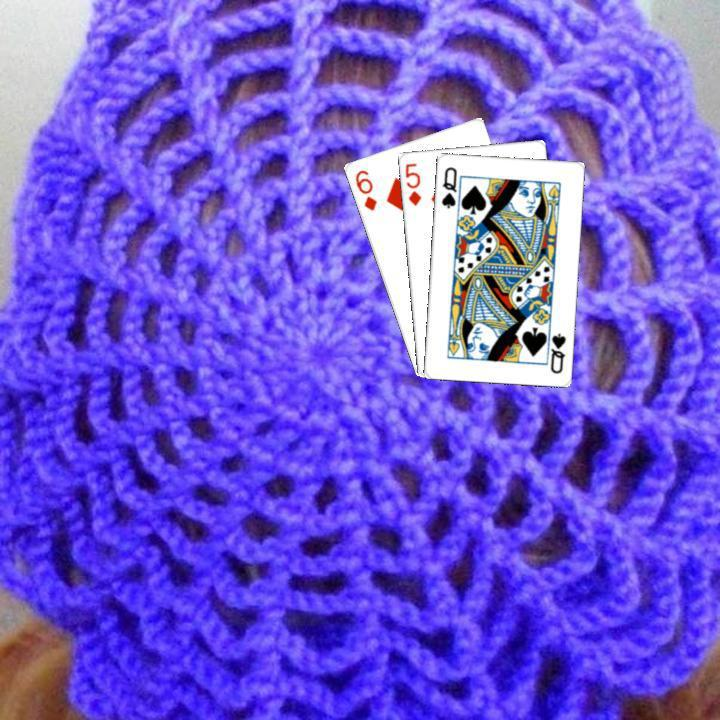5: (400, 159, 423, 207)
6: (350, 165, 379, 213)
Q: (436, 162, 458, 210), (546, 329, 568, 375)
